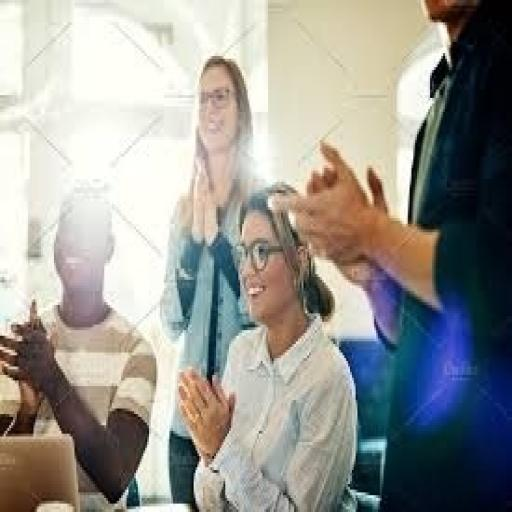clapping: (268, 0, 510, 509), (175, 182, 359, 509), (0, 176, 158, 509), (156, 54, 262, 506)
